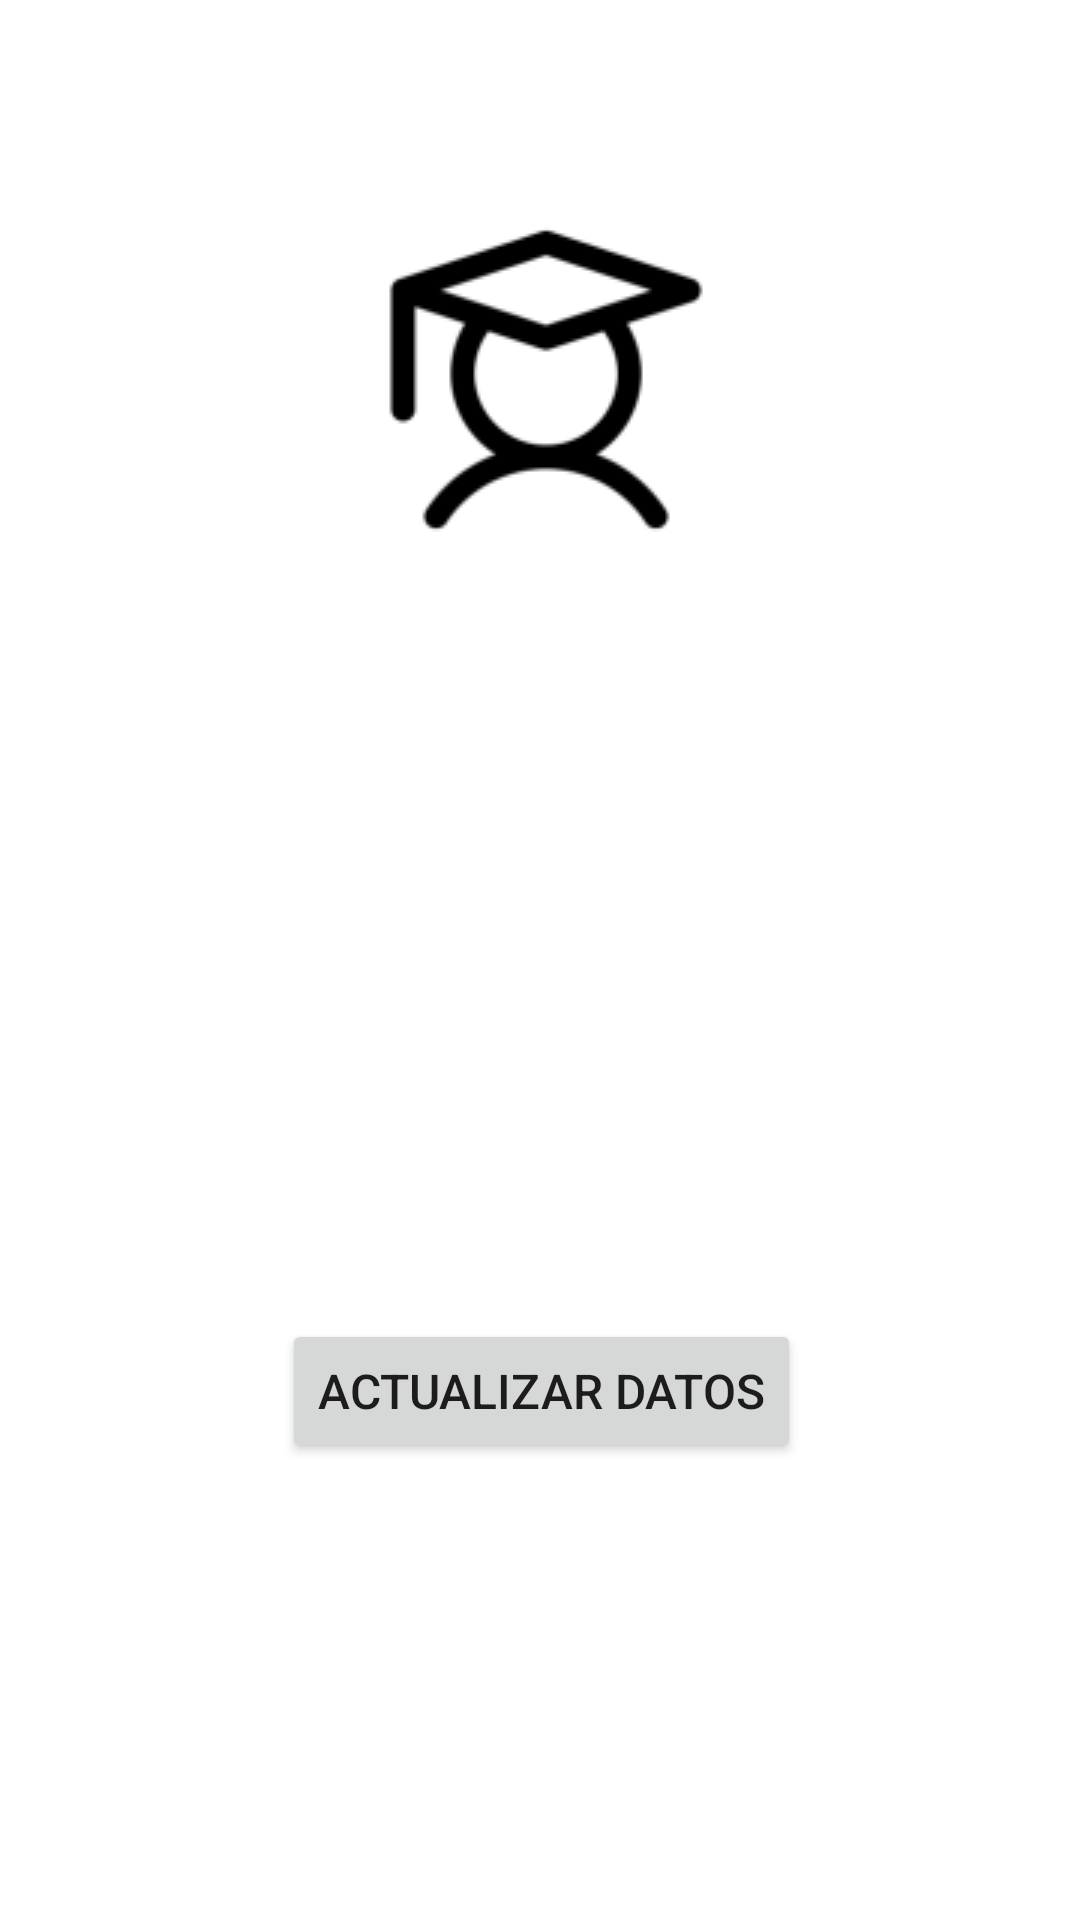

Icon click points for this 1080w x 1920h phone screenshot, format point (x, y):
student: point (546, 380)
